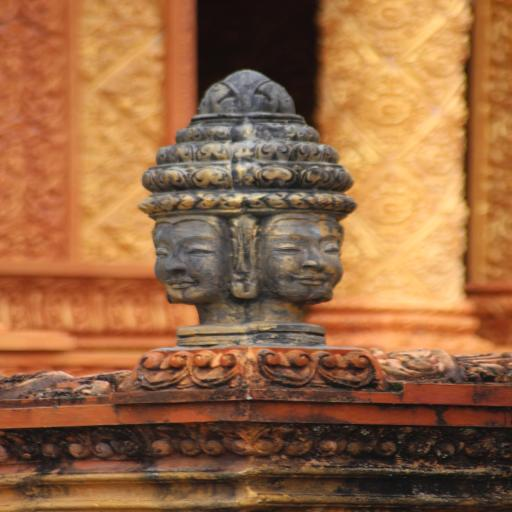than: (143, 76, 356, 346)
